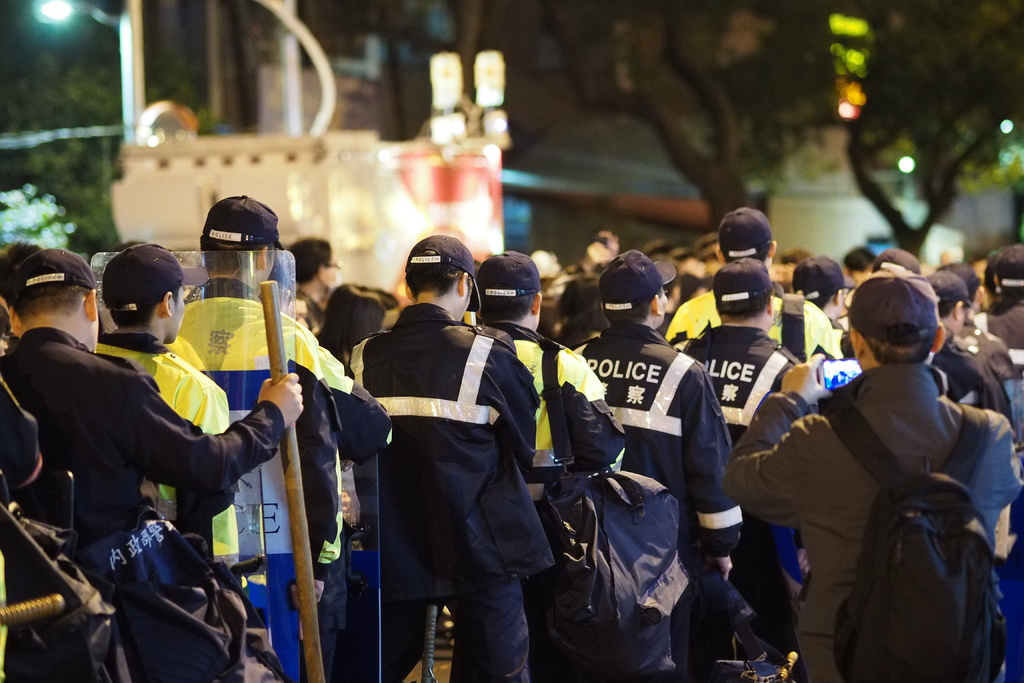Person: (0, 194, 1023, 683)
